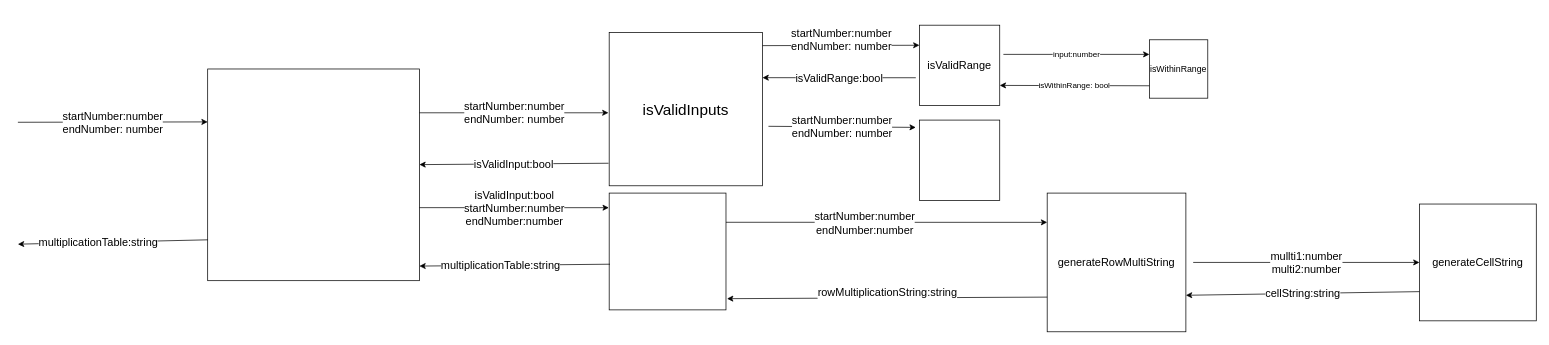
Image size: 1549x345. Some labels were removed from this diagram. The shapes that lost their labels are listed below. From the top down, each one's centre as x and y in pixels, then its label:
point (313, 174): render
point (959, 159): isInputsInteger
point (667, 251): generateMultiString
